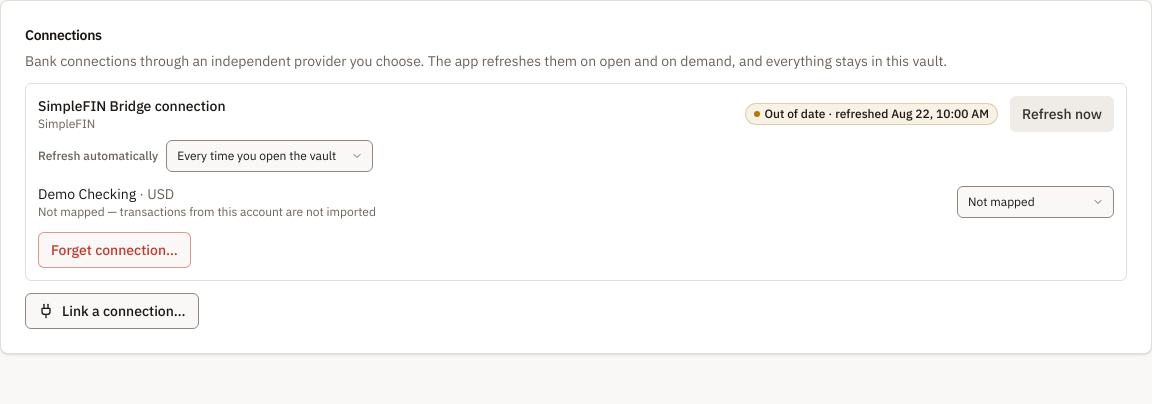
it: ConnectionsCard › reads an unmapped-discovery outcome as progress, not an error
The width and height of the screenshot is (1152, 404).
Step 1. Click the button "Refresh now" → x=1062, y=114, box [1010,96,1114,132]
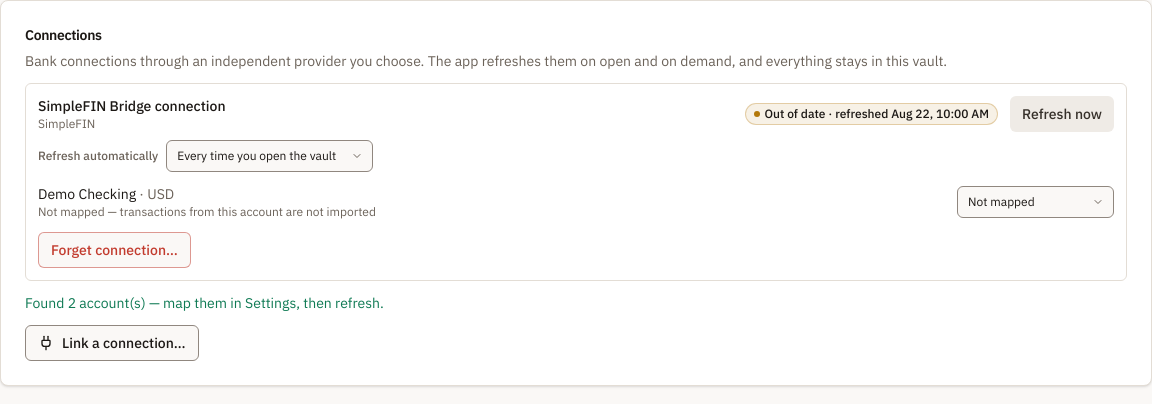
Result: the message reads "Found 2 account(s) — map them in Settings, then refresh." at [25,294,384,312]
